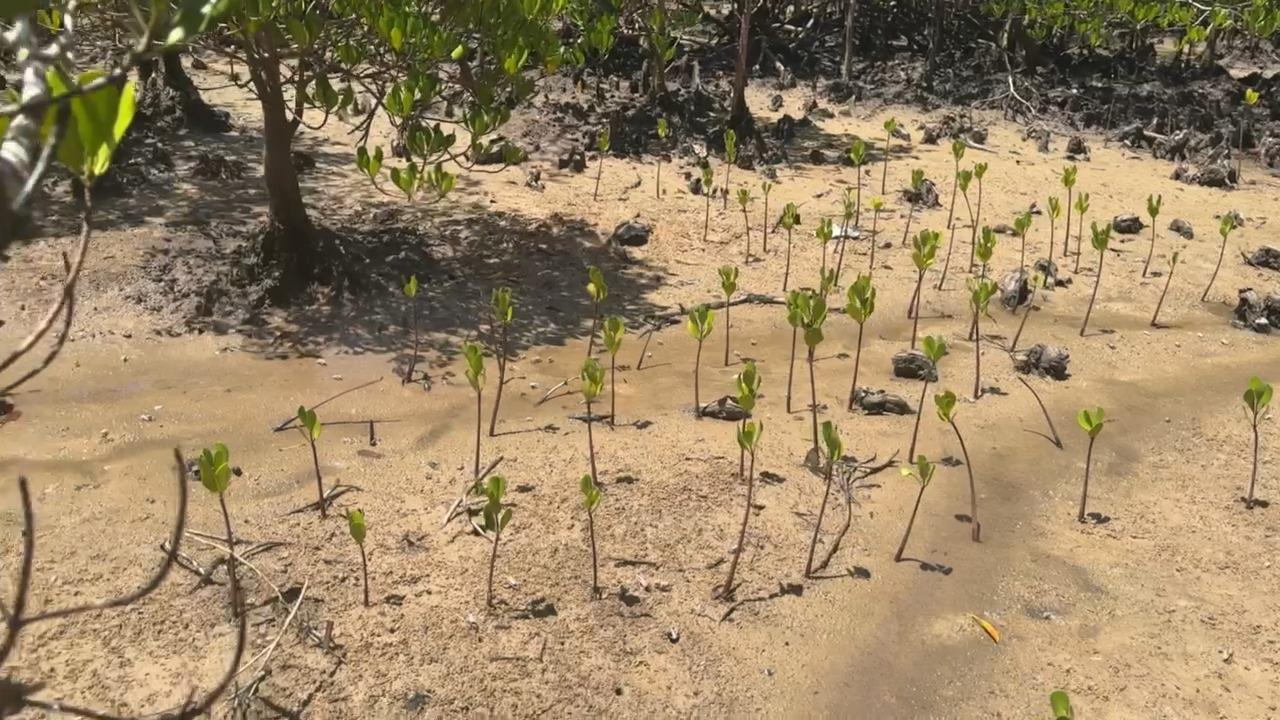Tree: (719, 421, 765, 596), (933, 392, 980, 541), (198, 441, 237, 617), (804, 420, 843, 577), (790, 291, 826, 455), (910, 334, 948, 464), (485, 288, 516, 435), (844, 273, 877, 409), (480, 473, 512, 610), (1079, 221, 1115, 339), (1076, 407, 1113, 520), (461, 344, 489, 493), (896, 455, 936, 559), (1241, 378, 1273, 507), (965, 279, 1000, 395), (293, 404, 328, 518), (1017, 376, 1064, 450), (579, 474, 609, 589), (910, 228, 939, 345), (688, 303, 716, 417), (581, 358, 605, 485), (906, 232, 940, 319), (738, 361, 764, 474), (1201, 215, 1234, 300), (807, 269, 835, 359), (786, 289, 806, 412), (345, 509, 370, 607), (584, 266, 610, 357), (901, 169, 932, 245), (717, 264, 740, 365), (1149, 252, 1180, 326), (604, 314, 624, 425), (945, 138, 967, 229), (1011, 274, 1038, 348), (781, 202, 803, 292), (957, 169, 976, 271), (1042, 197, 1063, 288), (404, 273, 420, 382), (852, 140, 871, 229), (1142, 193, 1162, 277), (837, 201, 858, 279), (1073, 192, 1092, 273), (880, 120, 900, 195), (832, 190, 856, 252), (816, 217, 837, 286), (720, 129, 738, 208), (1064, 165, 1080, 253), (654, 118, 671, 198), (735, 189, 753, 259), (936, 222, 954, 292), (972, 162, 988, 239), (594, 128, 611, 200), (976, 225, 998, 280), (700, 166, 715, 241), (868, 200, 883, 270), (1014, 213, 1031, 273), (638, 325, 659, 371), (761, 183, 772, 252), (1051, 690, 1075, 720)
